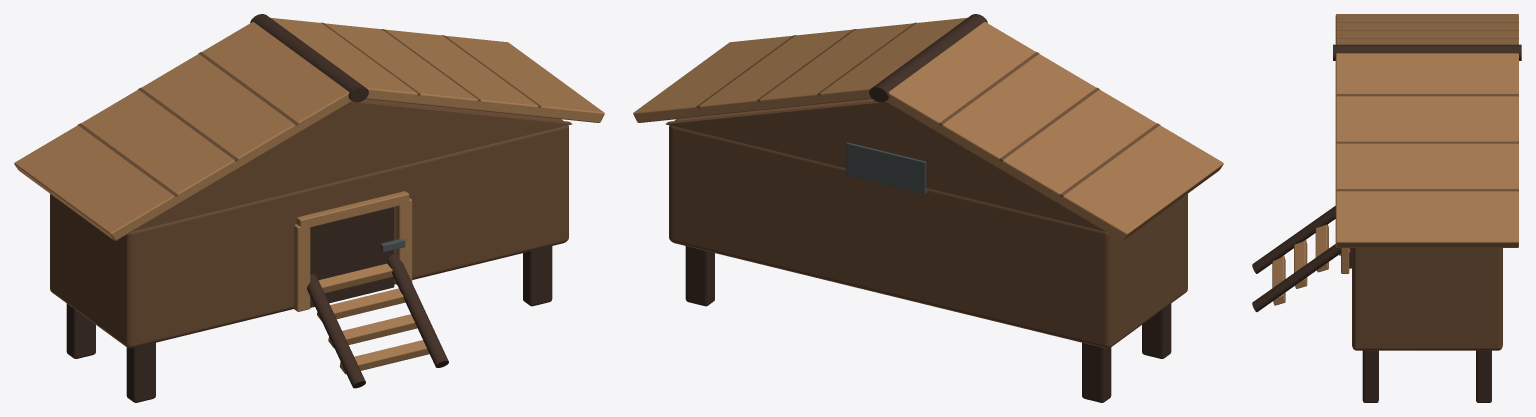
The model's file is detail_chicken_coop.glb.
3 renders of one model, left to right at view 1: azimuth 30°, elevation 25°; view 2: azimuth 150°, elevation 25°; view 3: azimuth 270°, elevation 25°, orthographic. The views are drawn at different scales.
Parts seen in each view (by area): view 1: wood; view 2: wood, stone; view 3: wood.
Boxes of the visible parts, left/top/right/bottom form: wood: left=14, top=14, right=604, bottom=402; wood: left=633, top=14, right=1223, bottom=402; stone: left=846, top=142, right=927, bottom=194; wood: left=1252, top=14, right=1521, bottom=402.
Size of the model in its own units: 2.8 by 1.5 by 1.4.
